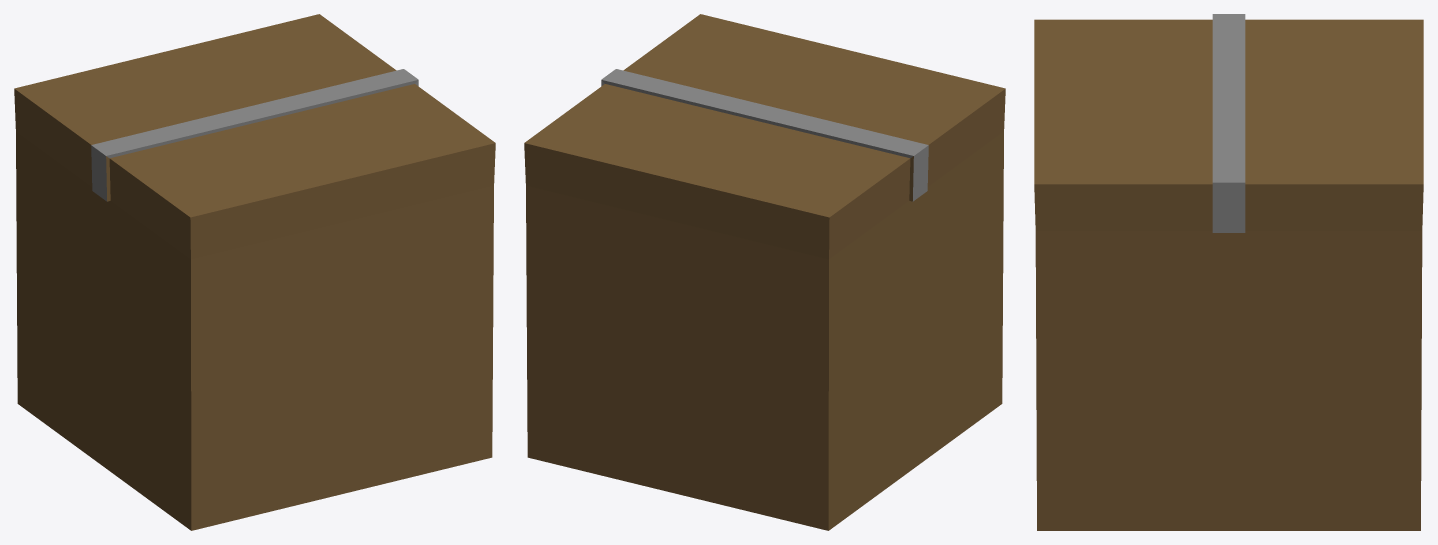
The model's file is Closed box.fbx.
3 renders of one model, left to right at view 1: azimuth 30°, elevation 25°; view 2: azimuth 150°, elevation 25°; view 3: azimuth 270°, elevation 25°, orthographic. The views are drawn at different scales.
Visible parts, largest first — view 1: Cube.006; view 2: Cube.006; view 3: Cube.006.
Part boxes in pixels (x1=…): Cube.006: x1=14, y1=14, x2=495, y2=530; Cube.006: x1=524, y1=14, x2=1005, y2=530; Cube.006: x1=1034, y1=14, x2=1423, y2=530.
Size of the model in its own units: 97.21 by 94.54 by 94.92.
